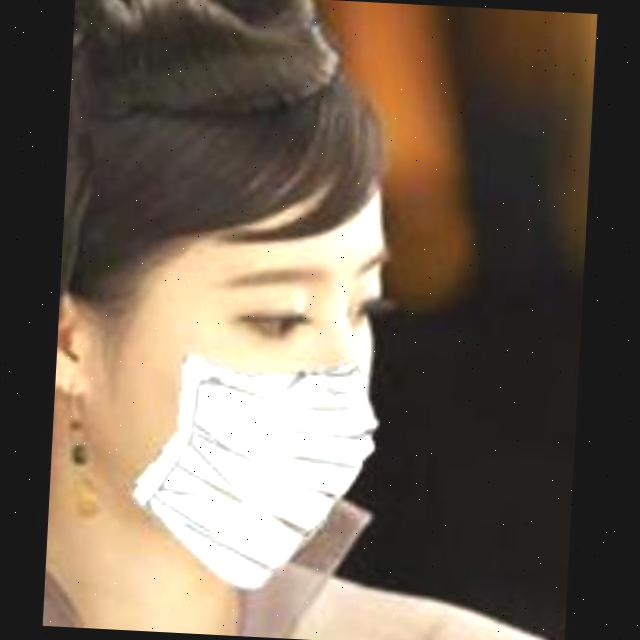suspicion: (54, 0, 432, 576)
